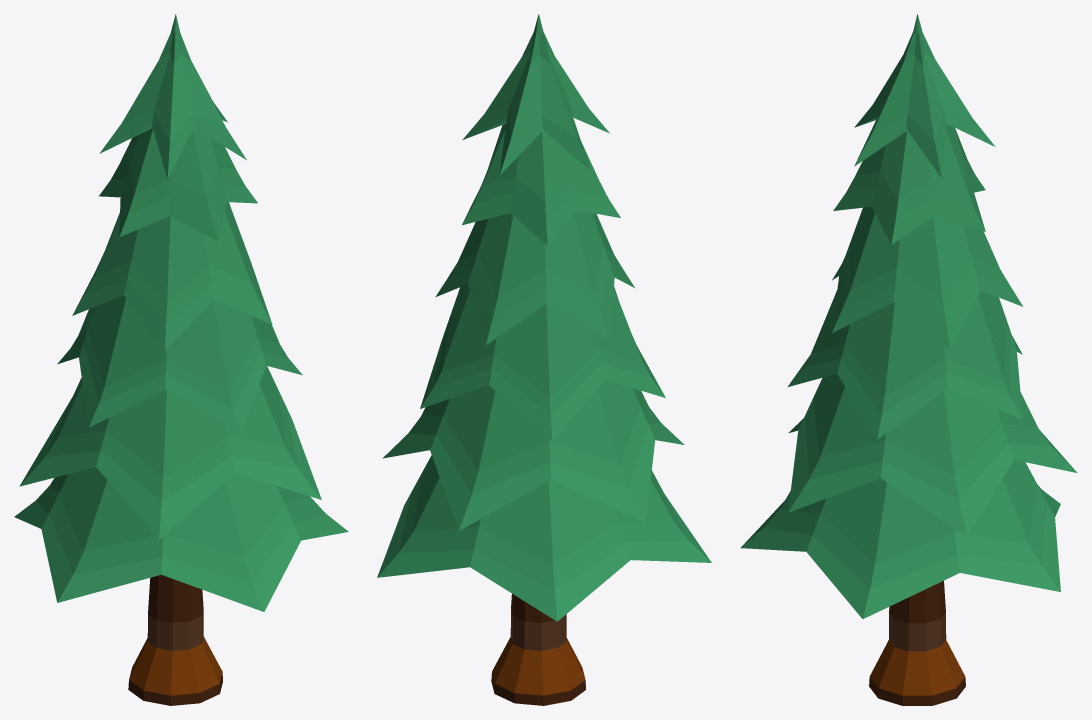
The model's file is TREE 1.fbx.
3 renders of one model, left to right at view 1: azimuth 30°, elevation 25°; view 2: azimuth 150°, elevation 25°; view 3: azimuth 270°, elevation 25°, orthographic.
Visible parts, largest first — view 1: tree2 trunk.008; view 2: tree2 trunk.008; view 3: tree2 trunk.008.
Boxes of the visible parts, x1,y1,x2,y2 form: tree2 trunk.008: (14,14,348,705); tree2 trunk.008: (377,14,711,705); tree2 trunk.008: (741,14,1076,705).
Size of the model in its own units: 554 by 1218 by 554.
